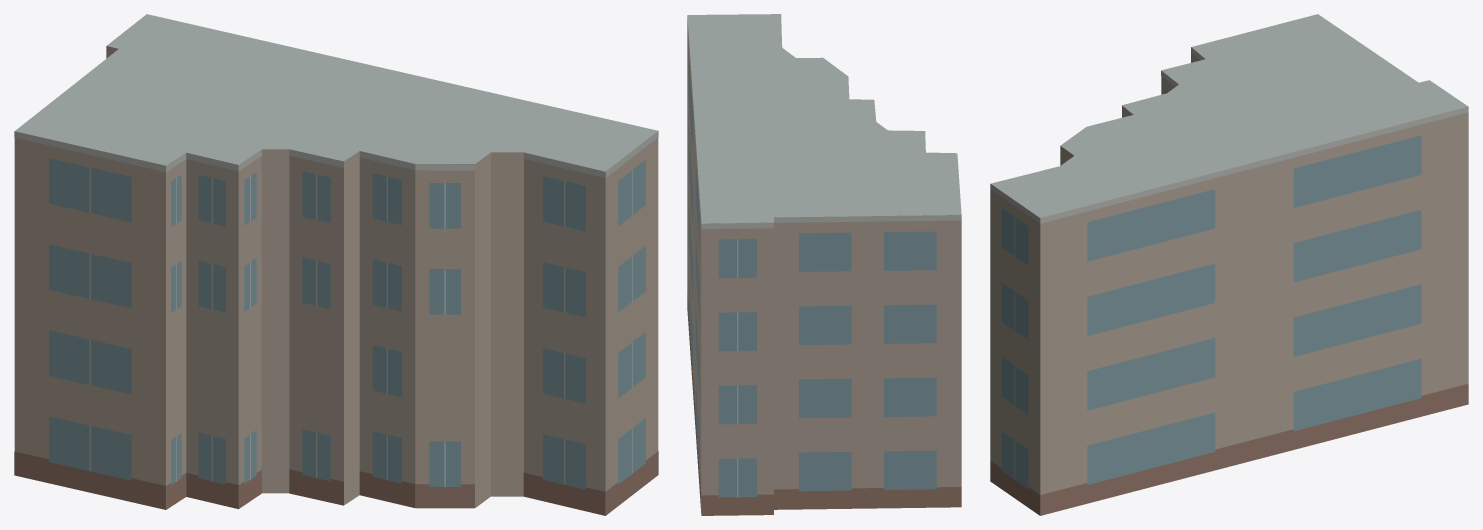
The model's file is survey-upis-32981899.glb.
3 renders of one model, left to right at view 1: azimuth 30°, elevation 25°; view 2: azimuth 150°, elevation 25°; view 3: azimuth 270°, elevation 25°, orthographic. The views are drawn at different scales.
Parts seen in each view (by area): view 1: survey-upis-32981899.tmp; view 2: survey-upis-32981899.tmp; view 3: survey-upis-32981899.tmp.
Boxes of the visible parts, left/top/right/bottom form: survey-upis-32981899.tmp: left=14, top=14, right=658, bottom=515; survey-upis-32981899.tmp: left=687, top=14, right=961, bottom=515; survey-upis-32981899.tmp: left=990, top=14, right=1468, bottom=515.
Bounding box in the file's own units: 19.01 × 12.93 × 18.82.
